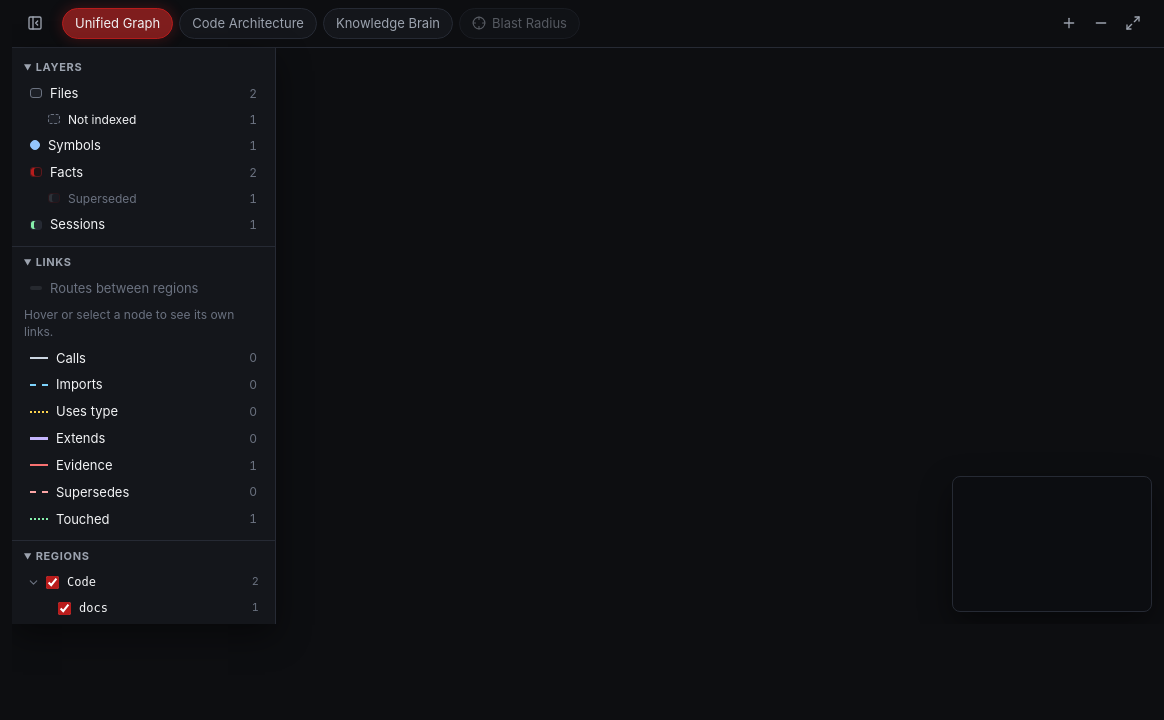
Test: GraphCanvas › hides superseded facts until asked, and toggles layers
Click the button "Superseded 1" at (144, 198), box left=24, top=186, right=263, bottom=211
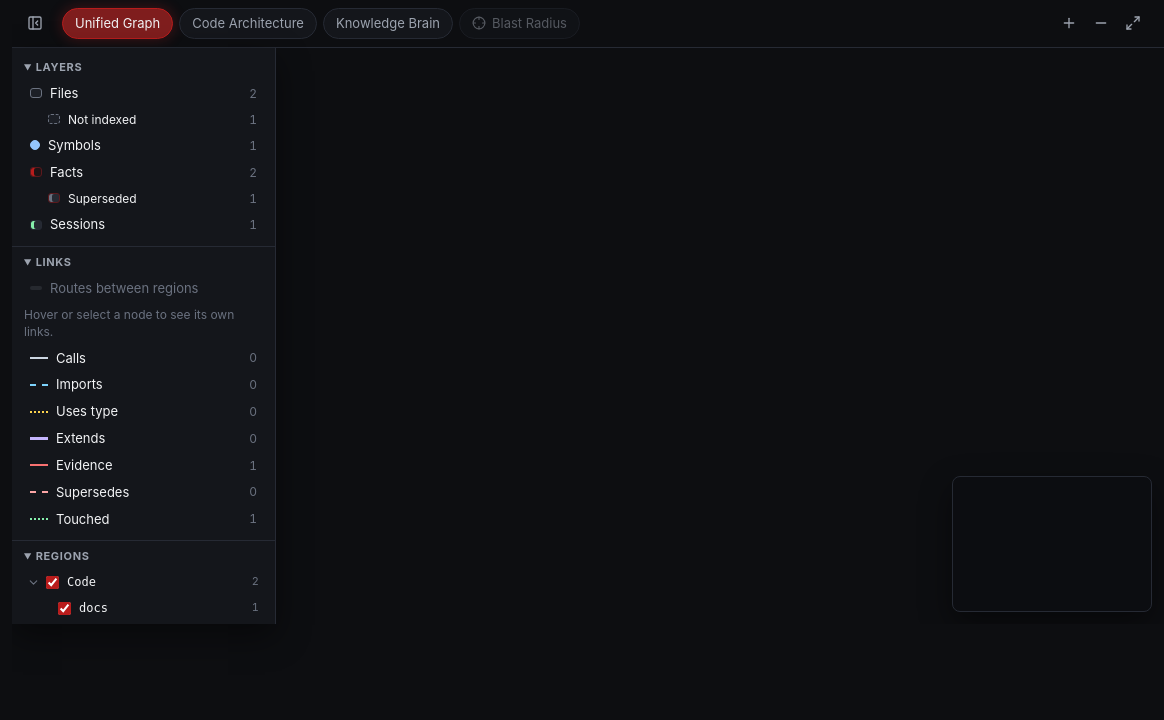
Click the button "Not indexed 1" at (144, 119), box left=24, top=107, right=263, bottom=132
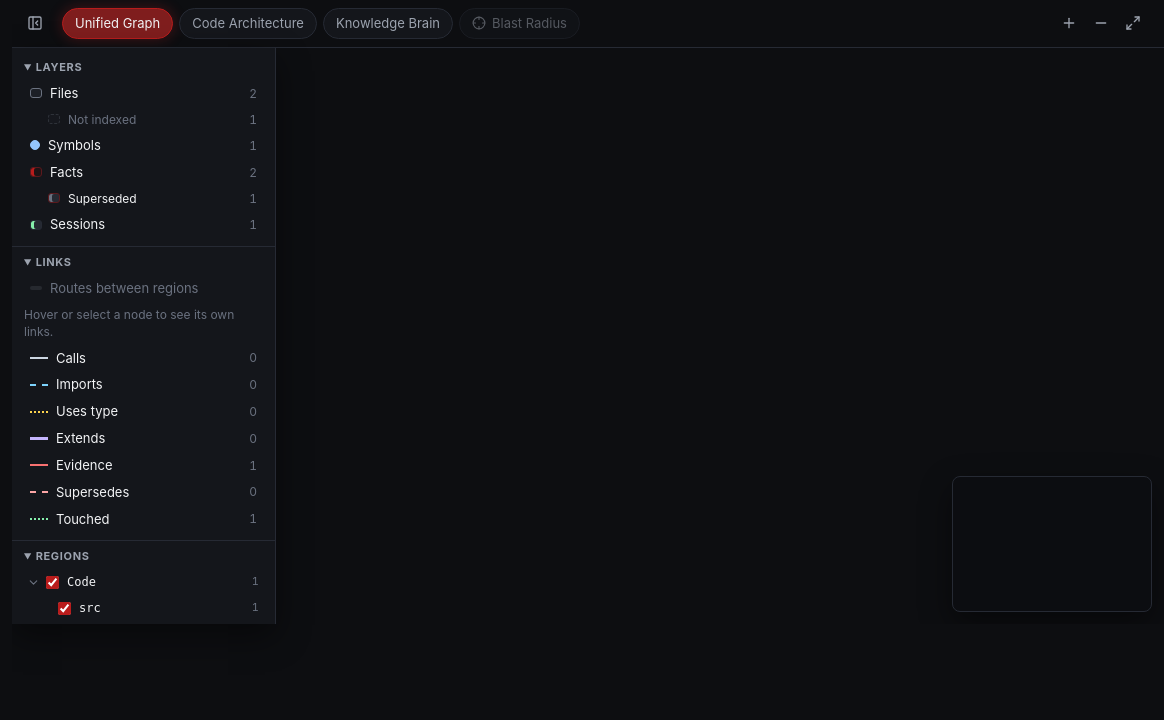
Click the button "Facts 2" at (144, 172), box left=24, top=159, right=263, bottom=186
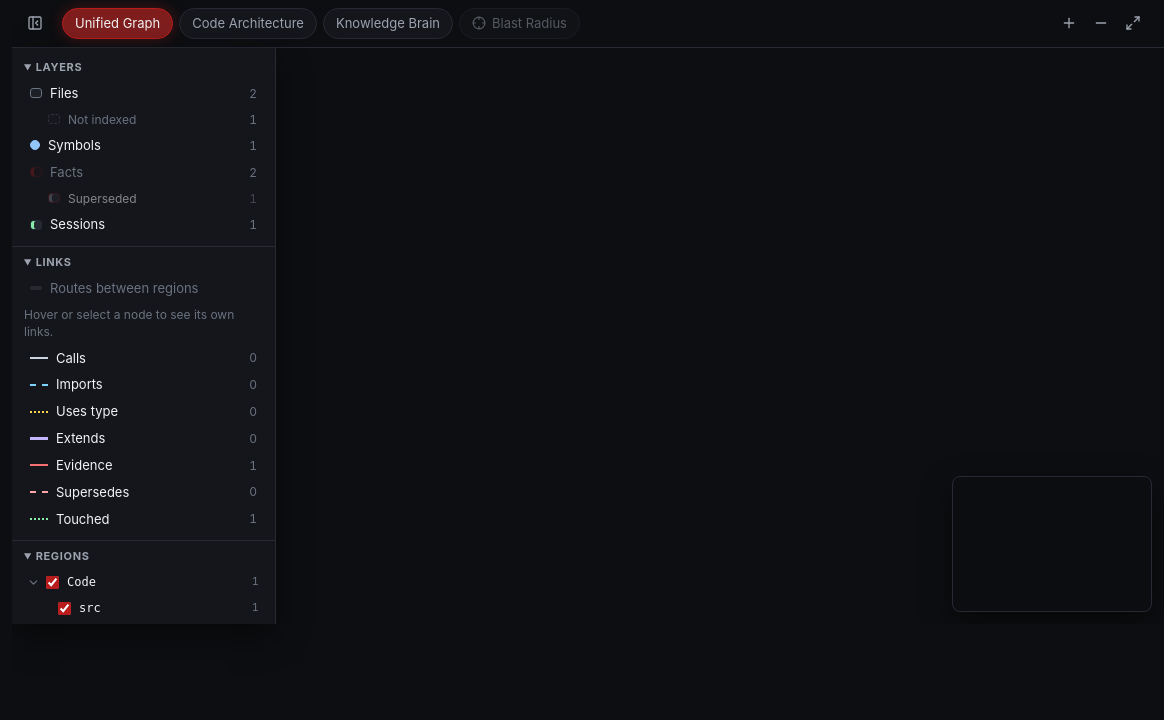
Now the button "Superseded 1" is disabled, box left=24, top=186, right=263, bottom=211
